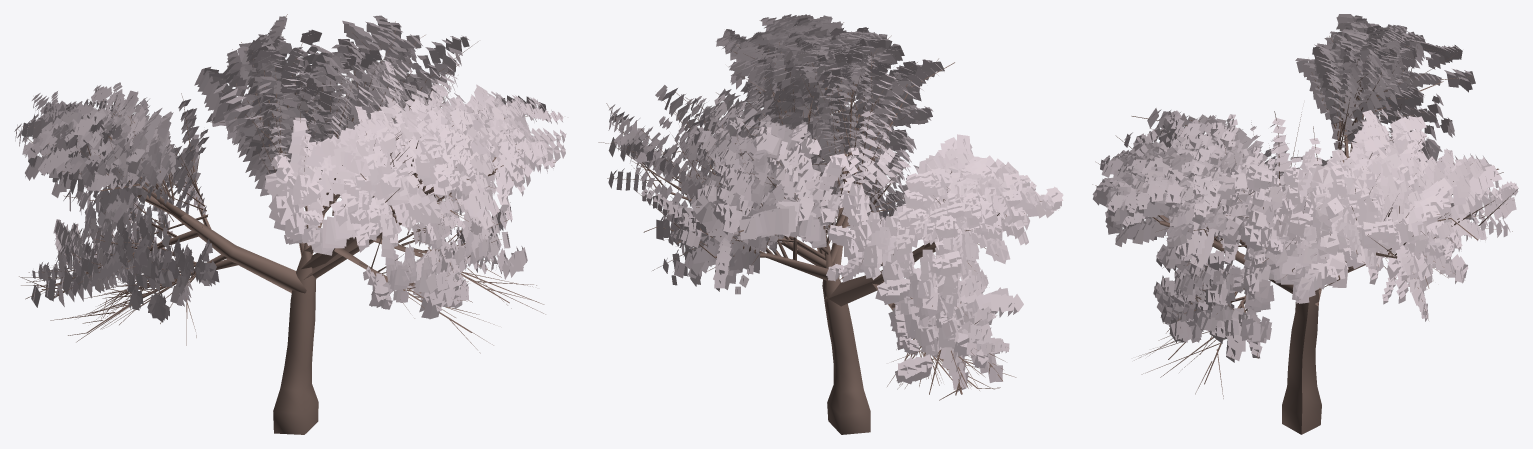
The model's file is sakura-natural-broad.glb.
3 renders of one model, left to right at view 1: azimuth 30°, elevation 25°; view 2: azimuth 150°, elevation 25°; view 3: azimuth 270°, elevation 25°, orthographic. The views are drawn at different scales.
Bounding box in the file's own units: 13.82 × 9.2 × 10.91.
